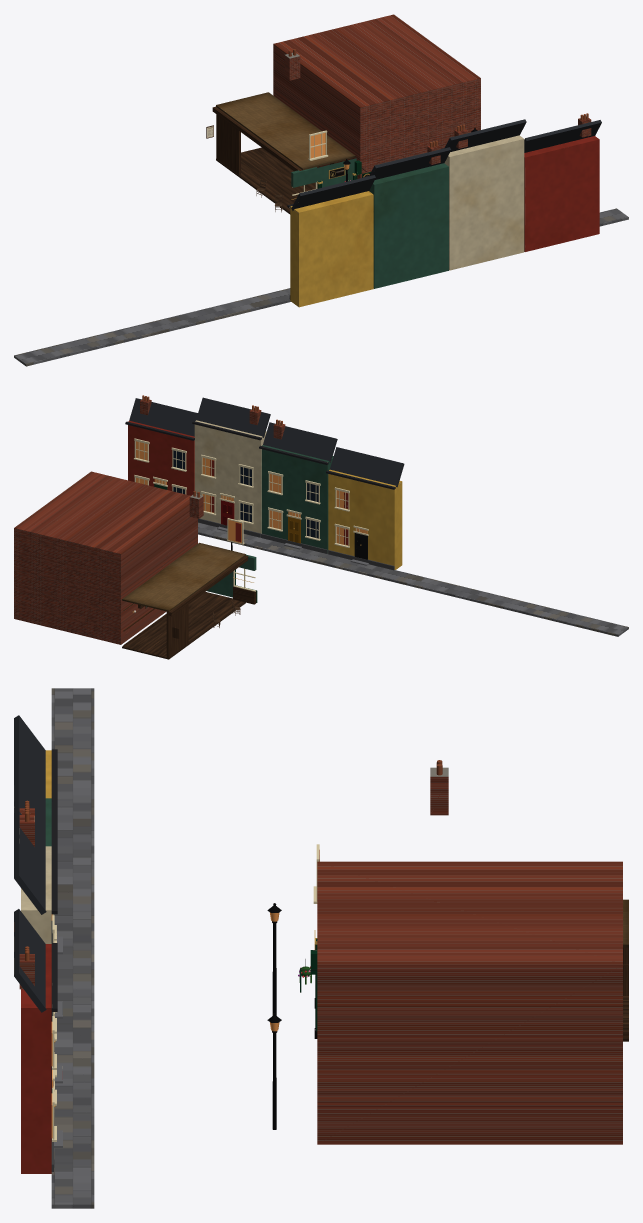
File: world_03.glb
3 views of the same model, one above another, from view 1: azimuth 30°, elevation 25°; view 2: azimuth 150°, elevation 25°; view 3: azimuth 270°, elevation 25° (orthographic). The views are drawn at different scales.
Parts seen in each view (by area): view 1: c109, c098, c110, c103, c113, c100, c099, c101; view 2: c109, c098, c110, c103, c113, c101, c099, c100, c108, c112; view 3: c109, c098, c113, c110, c103, c100, c099.
Part boxes in pixels (box(x1,y1,x2,y2)): c109: box(273, 14, 480, 178); c098: box(14, 175, 628, 366); c110: box(441, 119, 526, 270); c103: box(363, 147, 450, 288); c113: box(524, 113, 601, 251); c100: box(212, 49, 337, 212); c099: box(206, 92, 297, 181); c101: box(274, 130, 356, 214); c109: box(14, 471, 197, 644); c098: box(198, 447, 628, 636); c110: box(192, 397, 270, 537); c103: box(259, 422, 337, 553); c113: box(125, 395, 197, 495); c101: box(174, 518, 257, 621); c099: box(122, 580, 194, 659); c100: box(138, 491, 248, 640); c108: box(238, 405, 285, 531); c112: box(161, 447, 186, 494); c109: box(317, 861, 622, 1144); c098: box(14, 688, 94, 1208); c113: box(14, 909, 62, 1173); c110: box(14, 811, 62, 1083); c103: box(14, 763, 62, 1018); c100: box(430, 760, 448, 815); c099: box(623, 899, 628, 1041).
Size of the model in its own units: 40 by 9.13 by 20.13.
16 materials, 16 textured.
